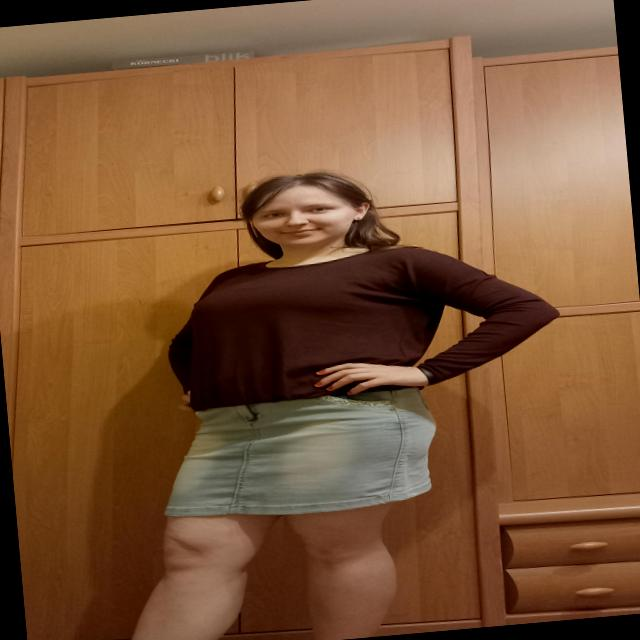Tshirt: (158, 232, 565, 414)
skirt: (154, 385, 443, 525)
